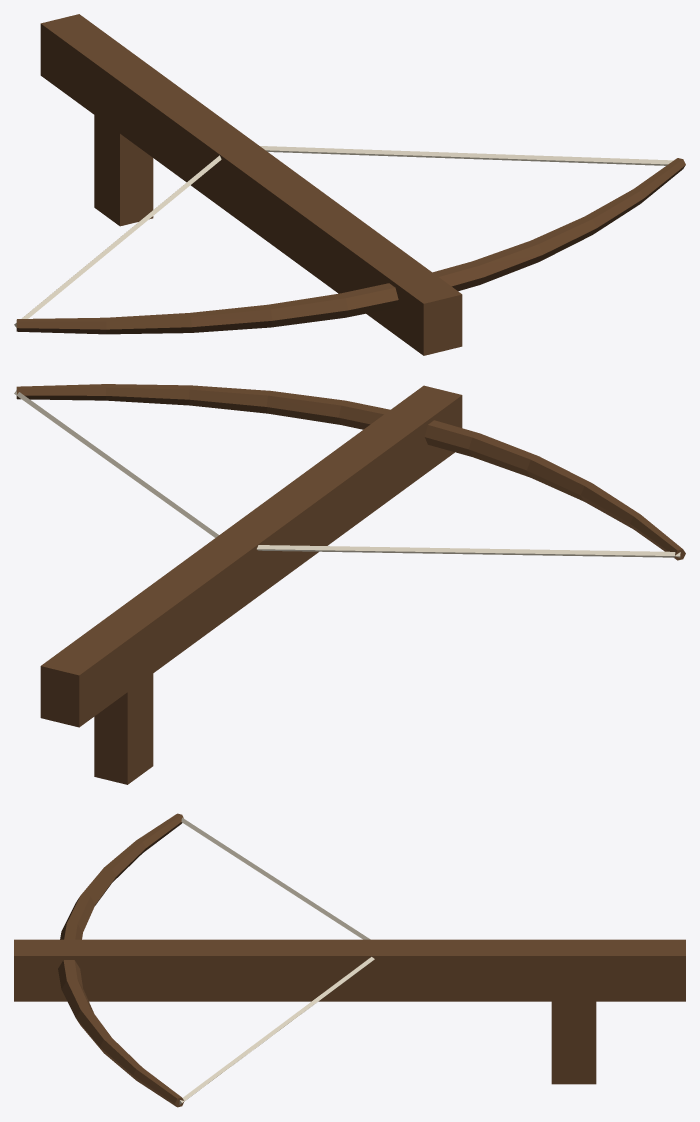
The model's file is g-crossbow-light.glb.
3 views of the same model, one above another, from view 1: azimuth 30°, elevation 25°; view 2: azimuth 150°, elevation 25°; view 3: azimuth 270°, elevation 25° (orthographic). The views are drawn at different scales.
Visible parts, largest first — view 1: g-crossbow-light; view 2: g-crossbow-light; view 3: g-crossbow-light.
Part boxes in pixels (x1,y1,x2,y2): g-crossbow-light: (14,14,685,355); g-crossbow-light: (14,384,685,784); g-crossbow-light: (14,813,685,1107).
Size of the model in its own units: 0.6051 by 0.1275 by 0.6.
